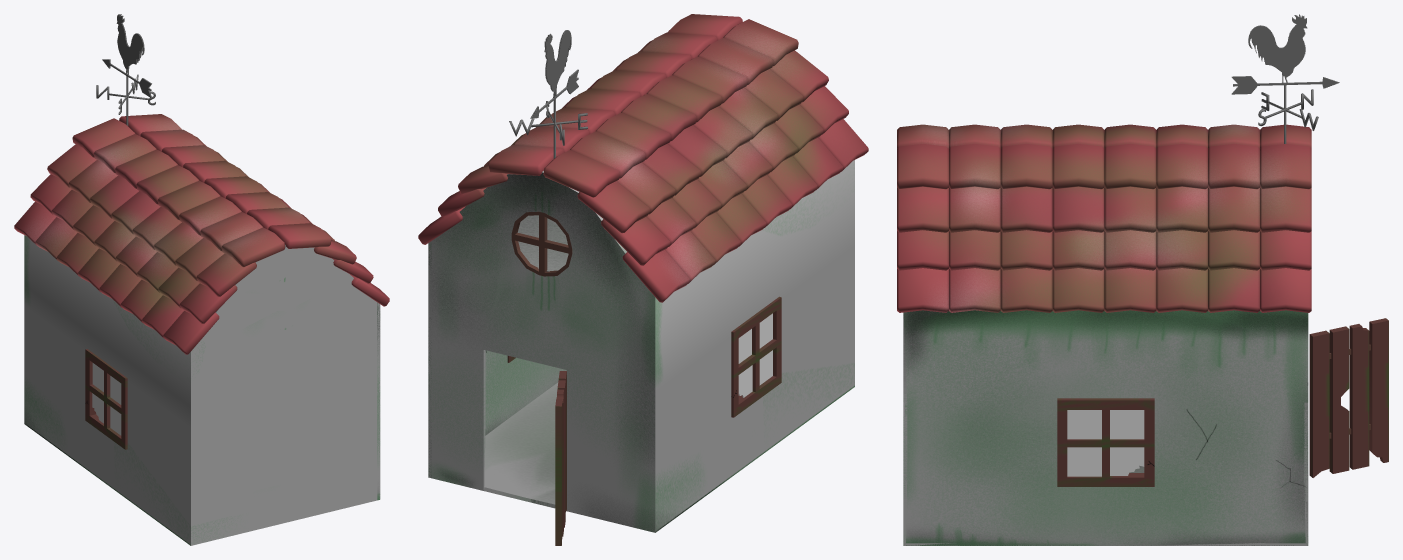
Rendered from house.fbx.
3 renders of one model, left to right at view 1: azimuth 30°, elevation 25°; view 2: azimuth 150°, elevation 25°; view 3: azimuth 270°, elevation 25°, orthographic. The views are drawn at different scales.
Visible parts, largest first — view 1: Cube, Cube.011, Cube.010, Cube.008, Cube.009, Cube.007, Cube.002, image, Cube.023, Cube.006, Cube.016, Cube.004 (+1 smaller); view 2: Cube, Cube.011, Cube.010, Cube.008, Cube.009, Cube.007, Cube.016, Cube.002, Cube.003, Cube.012, image, Cube.023 (+5 smaller); view 3: Cube.016, Cube.006, Cube.007, Cube.004, Cube.005, Cube.003, Cube.011, Cube.001, Cube.024, image, Cube, Text.
Boxes of the visible parts, x1,y1,x2,y2 form: Cube: (24,235,380,545); Cube.011: (72,118,285,267); Cube.010: (47,144,256,296); Cube.008: (14,201,219,354); Cube.009: (30,174,237,323); Cube.007: (119,114,331,248); Cube.002: (85,349,127,449); image: (102,14,152,125); Cube.023: (92,363,121,435); Cube.006: (194,136,356,264); Cube.016: (377,302,380,500); Cube.004: (350,274,389,306); Cube: (428,160,854,532); Cube.011: (543,19,798,197); Cube.010: (577,50,828,233); Cube.008: (622,119,868,302); Cube.009: (601,86,848,265); Cube.007: (488,14,742,175); Cube.016: (428,241,566,477); Cube.002: (731,296,781,417); Cube.003: (555,371,566,545); Cube.012: (511,211,572,276); image: (530,30,578,158); Cube.023: (738,313,772,397); Cube.016: (903,310,1308,545); Cube.006: (897,186,1311,232); Cube.007: (897,144,1311,189); Cube.004: (897,268,1311,312); Cube.005: (897,230,1311,270); Cube.003: (1309,318,1388,477); Cube.011: (897,124,1311,148); Cube.001: (1057,398,1154,486); Cube.024: (1067,410,1144,476); image: (1231,14,1339,143); Cube: (903,313,1308,545); Text: (1258,89,1318,130).
Size of the model in its own units: 1148 by 2064 by 1940.
